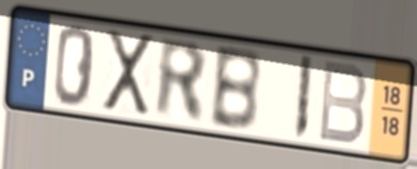0: (52, 23, 97, 110)
B: (207, 45, 264, 134), (316, 58, 370, 148)
I: (291, 52, 316, 144)
R: (153, 34, 209, 127)
X: (102, 26, 155, 118)
